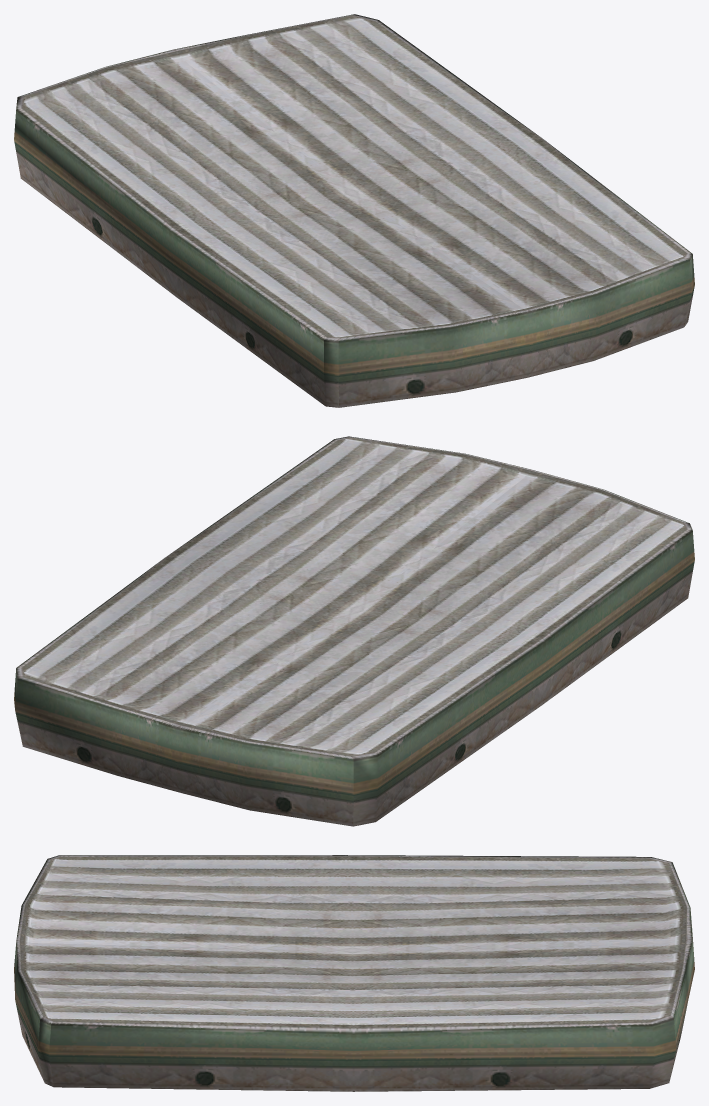
File: Prop_Bed1.glb
The picture shows the model from 3 angles, top to bottom: view 1: azimuth 30°, elevation 25°; view 2: azimuth 150°, elevation 25°; view 3: azimuth 270°, elevation 25°; orthographic projection. The views are drawn at different scales.
Parts seen in each view (by area): view 1: xiutz_bed1; view 2: xiutz_bed1; view 3: xiutz_bed1.
Part boxes in pixels (x1,y1,x2,y2): xiutz_bed1: (14, 14, 694, 407); xiutz_bed1: (14, 436, 694, 826); xiutz_bed1: (14, 855, 694, 1091).
Size of the model in its own units: 2.49 by 0.4469 by 4.1.
1 material, 1 textured.
